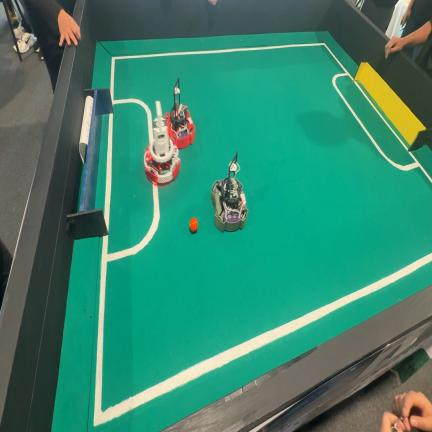cancha: (52, 32, 432, 432)
limites: (101, 253, 432, 420), (94, 185, 160, 425), (112, 42, 353, 80), (332, 73, 419, 170), (354, 82, 407, 150), (113, 98, 153, 140), (323, 43, 352, 79), (104, 114, 113, 228), (417, 161, 432, 184), (407, 155, 421, 168), (110, 60, 115, 96), (421, 168, 432, 183)
pelota: (190, 218, 197, 233)
porteria: (67, 88, 113, 240), (354, 62, 432, 151)
robot: (144, 101, 180, 185), (211, 152, 248, 232), (164, 78, 195, 149)
